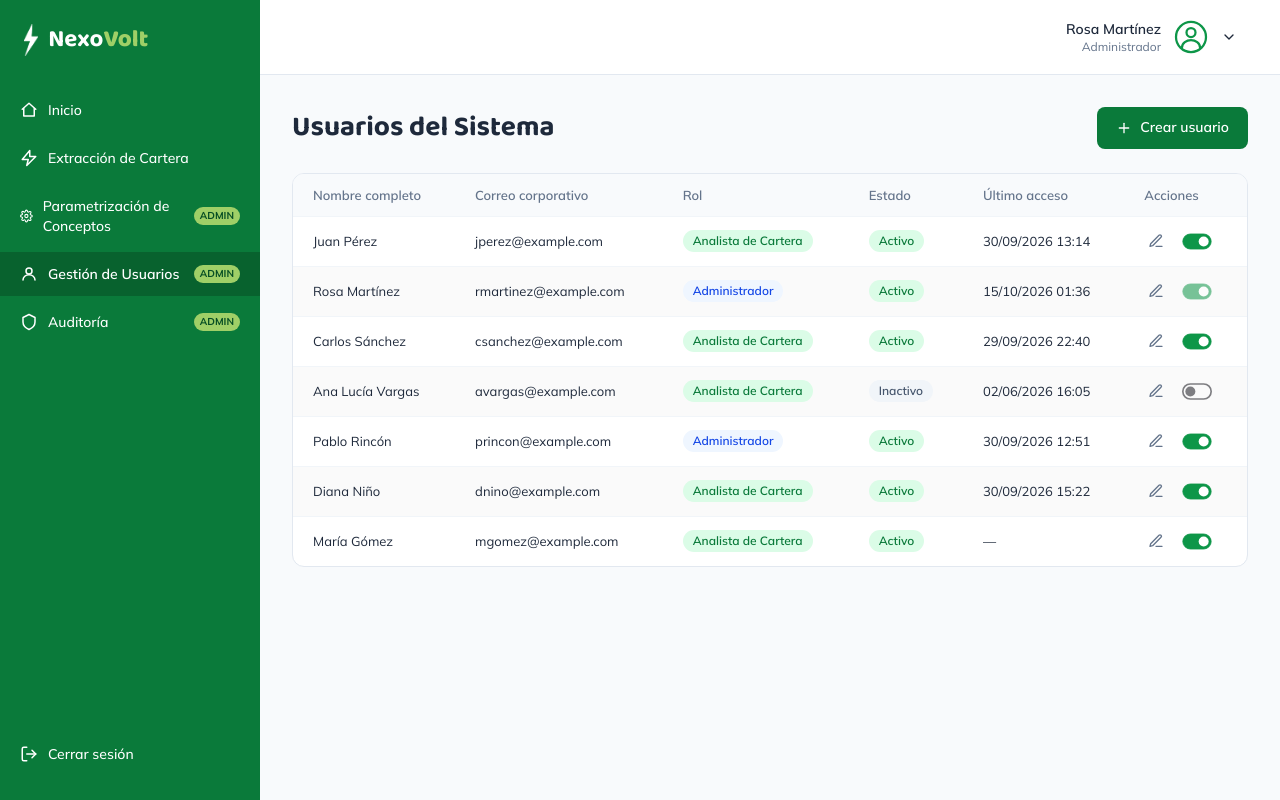
Test case: usuarios: tabla y diálogos › el aviso de desactivar es un alertdialog descrito por su mensaje y devuelve el foco al cancelar
Check: the text "Juan Pérez" is shown, box top-left (293, 216), bottom-right (455, 266)
Click the switch named "Usuario Carlos Sánchez activo" at [1197, 341], box top-left (1178, 329), bottom-right (1216, 354)
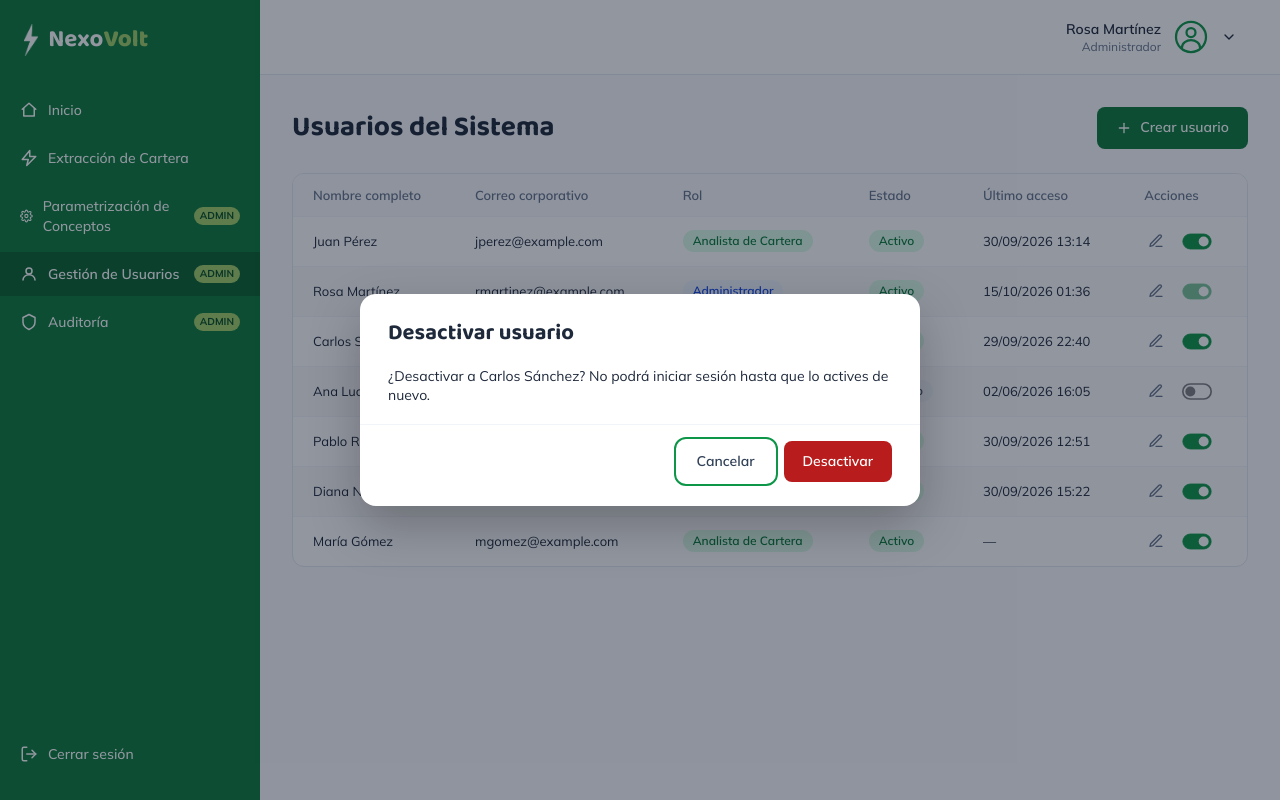
Press Escape
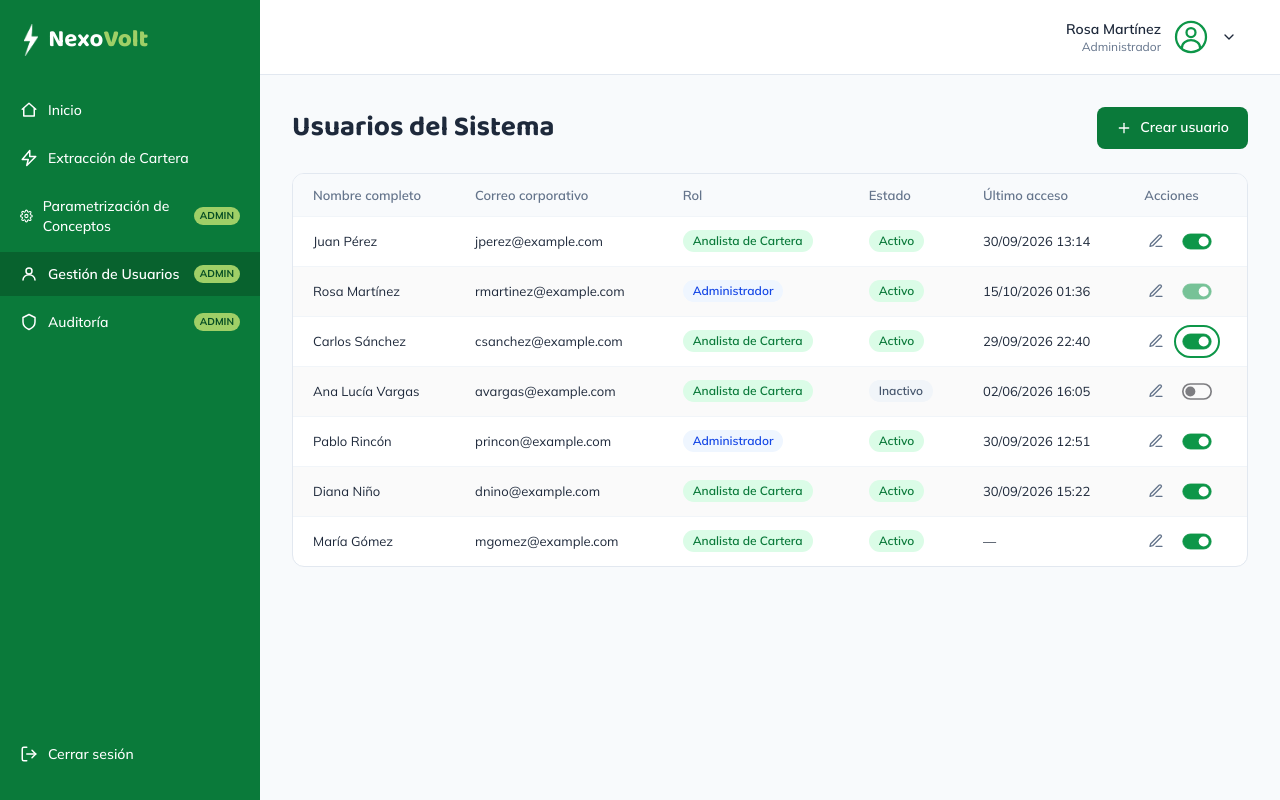
Check: the dialog is gone
